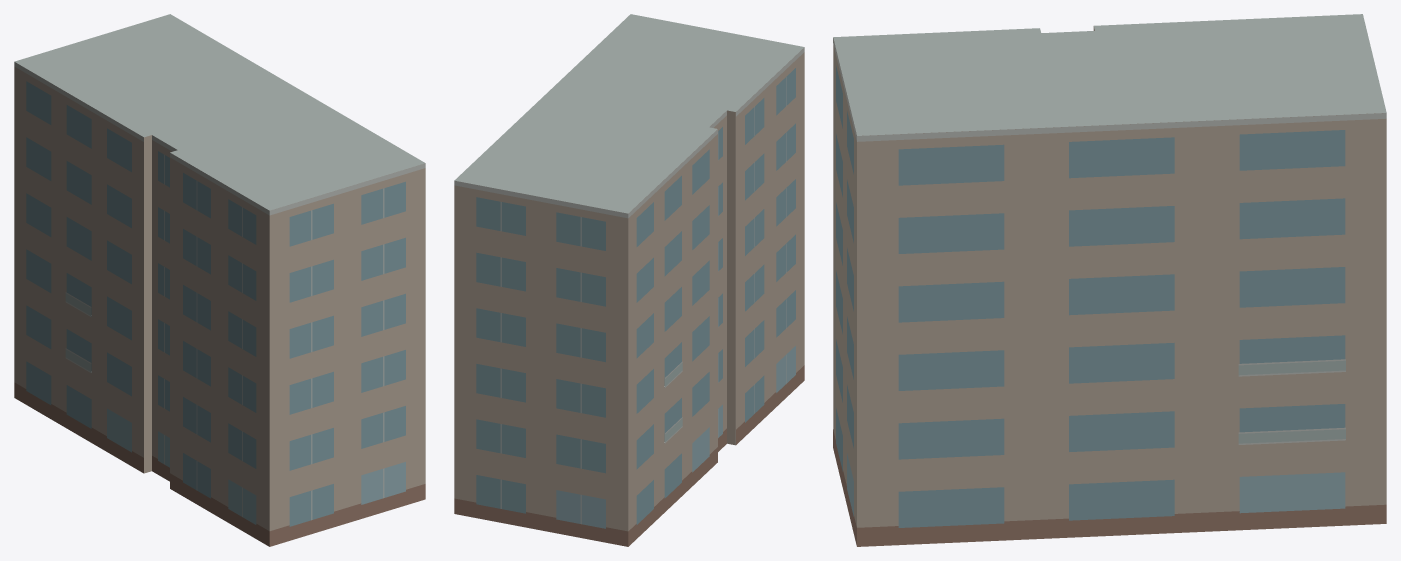
The model's file is survey-upis-32652715.glb.
3 views of the same model, side by side, from view 1: azimuth 30°, elevation 25°; view 2: azimuth 150°, elevation 25°; view 3: azimuth 270°, elevation 25° (orthographic). The views are drawn at different scales.
Visible parts, largest first — view 1: survey-upis-32652715.tmp; view 2: survey-upis-32652715.tmp; view 3: survey-upis-32652715.tmp.
Boxes of the visible parts, left/top/right/bottom form: survey-upis-32652715.tmp: left=14, top=14, right=425, bottom=546; survey-upis-32652715.tmp: left=454, top=14, right=804, bottom=546; survey-upis-32652715.tmp: left=833, top=14, right=1386, bottom=546.
Size of the model in its own units: 10.9 by 17.1 by 20.89.
